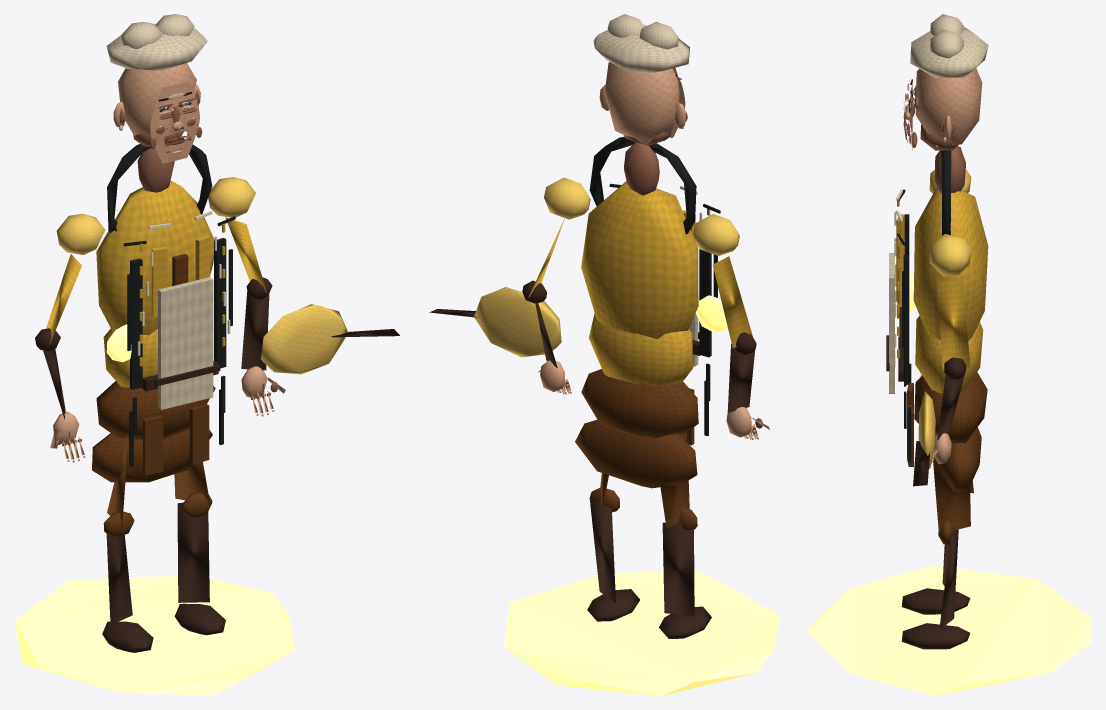
File: solar-chef-lod1.glb
The picture shows the model from 3 angles, left to right: view 1: azimuth 30°, elevation 25°; view 2: azimuth 150°, elevation 25°; view 3: azimuth 270°, elevation 25°; orthographic projection.
Visible parts, largest first — view 1: solar-chef_table_scale_base_lod1, solar-chef_ribcage_lod1, solar-chef_apron_panel_lod1, solar-chef_iron_pan_lod1, solar-chef_pelvis_lod1, solar-chef_coat_tail_lod1, solar-chef_head_lod1, solar-chef_right_shin_lod1, solar-chef_chef_cap_lod1, solar-chef_face_sculpt_surface_lod1, solar-chef_left_shin_lod1, solar-chef_raised_collar_lod1 (+21 smaller); view 2: solar-chef_table_scale_base_lod1, solar-chef_ribcage_lod1, solar-chef_pelvis_lod1, solar-chef_coat_tail_lod1, solar-chef_abdomen_lod1, solar-chef_head_lod1, solar-chef_iron_pan_lod1, solar-chef_left_shin_lod1, solar-chef_chef_cap_lod1, solar-chef_raised_collar_lod1, solar-chef_right_shin_lod1, solar-chef_left_upper_arm_lod1 (+13 smaller); view 3: solar-chef_table_scale_base_lod1, solar-chef_ribcage_lod1, solar-chef_head_lod1, solar-chef_pelvis_lod1, solar-chef_chef_cap_lod1, solar-chef_right_upper_arm_lod1, solar-chef_abdomen_lod1, solar-chef_right_thigh_lod1, solar-chef_coat_tail_lod1, solar-chef_right_boot_lod1, solar-chef_right_shoulder_lod1, solar-chef_left_boot_lod1 (+10 smaller).
Part boxes in pixels (x1=…): solar-chef_table_scale_base_lod1: x1=14, y1=575, x2=295, y2=695; solar-chef_ribcage_lod1: x1=96, y1=180, x2=214, y2=335; solar-chef_apron_panel_lod1: x1=158, y1=277, x2=213, y2=409; solar-chef_iron_pan_lod1: x1=260, y1=304, x2=347, y2=374; solar-chef_pelvis_lod1: x1=96, y1=381, x2=215, y2=439; solar-chef_coat_tail_lod1: x1=92, y1=429, x2=212, y2=482; solar-chef_head_lod1: x1=118, y1=63, x2=196, y2=135; solar-chef_right_shin_lod1: x1=177, y1=502, x2=209, y2=602; solar-chef_chef_cap_lod1: x1=106, y1=28, x2=207, y2=70; solar-chef_face_sculpt_surface_lod1: x1=150, y1=82, x2=199, y2=163; solar-chef_left_shin_lod1: x1=106, y1=534, x2=132, y2=624; solar-chef_raised_collar_lod1: x1=107, y1=138, x2=212, y2=232; solar-chef_table_scale_base_lod1: x1=504, y1=570, x2=779, y2=695; solar-chef_ribcage_lod1: x1=581, y1=181, x2=698, y2=338; solar-chef_pelvis_lod1: x1=581, y1=369, x2=698, y2=438; solar-chef_coat_tail_lod1: x1=575, y1=419, x2=697, y2=488; solar-chef_abdomen_lod1: x1=589, y1=313, x2=693, y2=387; solar-chef_head_lod1: x1=605, y1=62, x2=680, y2=143; solar-chef_iron_pan_lod1: x1=474, y1=287, x2=561, y2=357; solar-chef_left_shin_lod1: x1=662, y1=522, x2=694, y2=616; solar-chef_chef_cap_lod1: x1=593, y1=25, x2=689, y2=73; solar-chef_raised_collar_lod1: x1=589, y1=136, x2=696, y2=234; solar-chef_right_shin_lod1: x1=589, y1=499, x2=615, y2=602; solar-chef_left_upper_arm_lod1: x1=713, y1=256, x2=753, y2=348; solar-chef_table_scale_base_lod1: x1=808, y1=566, x2=1091, y2=695; solar-chef_ribcage_lod1: x1=913, y1=187, x2=988, y2=340; solar-chef_head_lod1: x1=915, y1=68, x2=982, y2=147; solar-chef_pelvis_lod1: x1=914, y1=372, x2=987, y2=443; solar-chef_chef_cap_lod1: x1=910, y1=27, x2=988, y2=77; solar-chef_right_upper_arm_lod1: x1=937, y1=279, x2=970, y2=369; solar-chef_abdomen_lod1: x1=915, y1=316, x2=983, y2=393; solar-chef_right_thigh_lod1: x1=933, y1=439, x2=970, y2=533; solar-chef_coat_tail_lod1: x1=940, y1=427, x2=981, y2=491; solar-chef_right_boot_lod1: x1=901, y1=623, x2=970, y2=649; solar-chef_right_shoulder_lod1: x1=929, y1=234, x2=971, y2=275; solar-chef_left_boot_lod1: x1=901, y1=588, x2=970, y2=614.
Bounding box in the file's own units: 1.21 × 2.05 × 0.8602.
18 materials, 16 textured.
